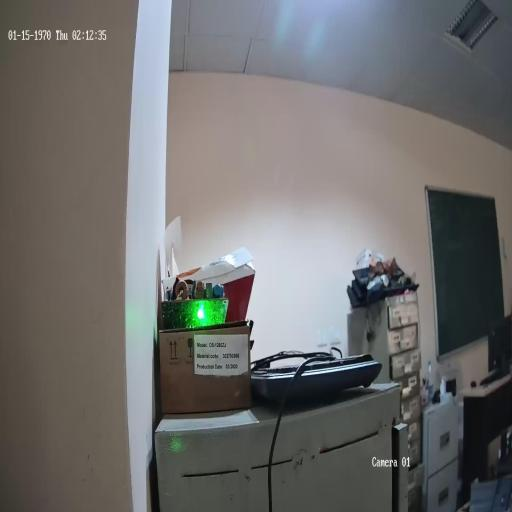laser: (196, 306, 206, 324)
